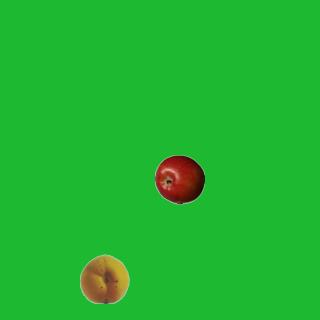Apple Braeburn: (154, 154, 204, 204)
Peach 2: (79, 253, 129, 303)
